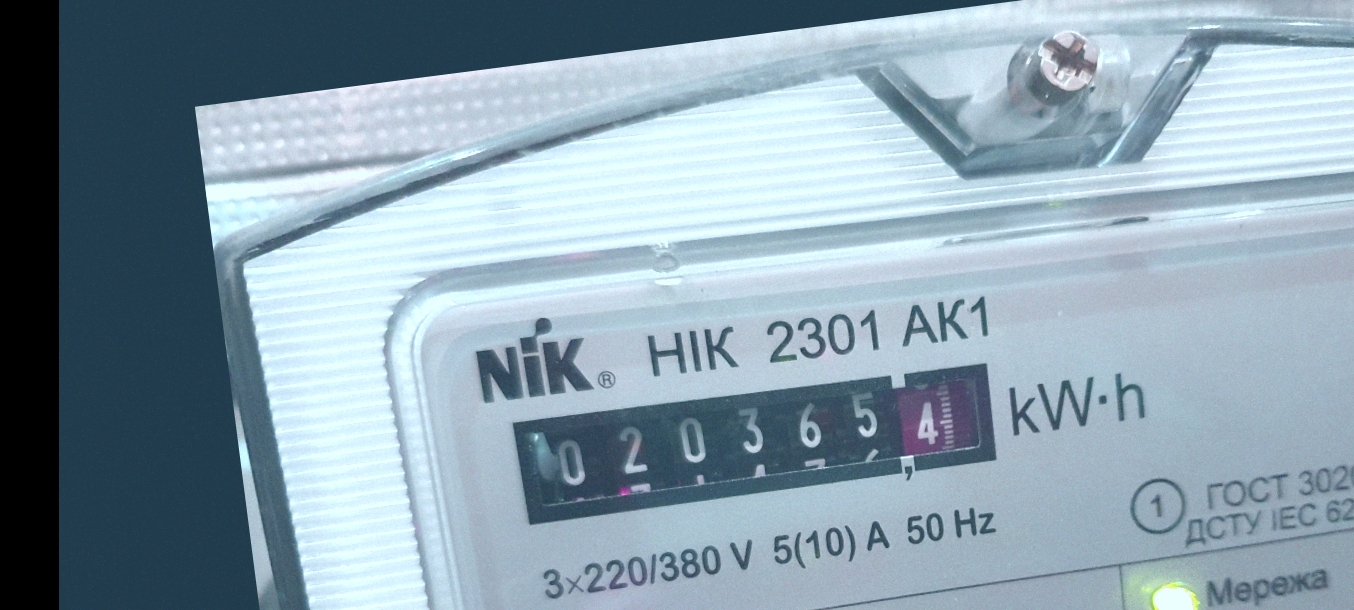0: (552, 432, 591, 491), (676, 413, 711, 466)
2: (615, 421, 651, 476)
3: (734, 404, 769, 456)
4: (911, 396, 940, 447)
5: (850, 389, 883, 439)
6: (793, 397, 825, 450)
screen: (497, 341, 1018, 543)
